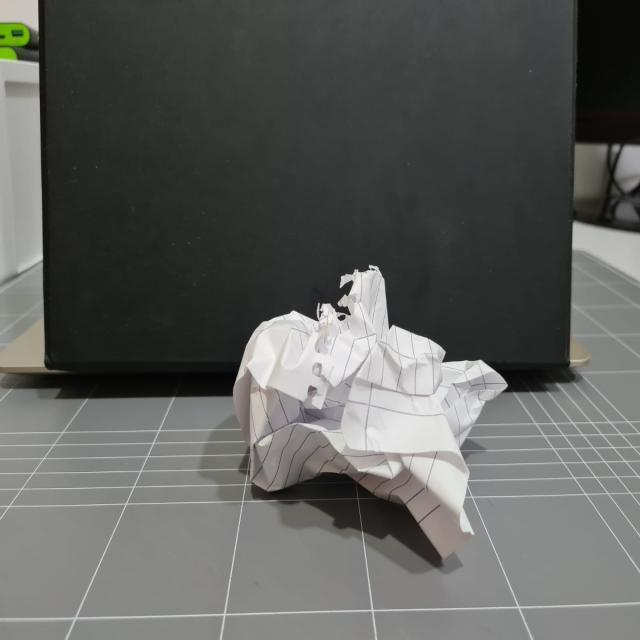Paper: (233, 269, 510, 559)
